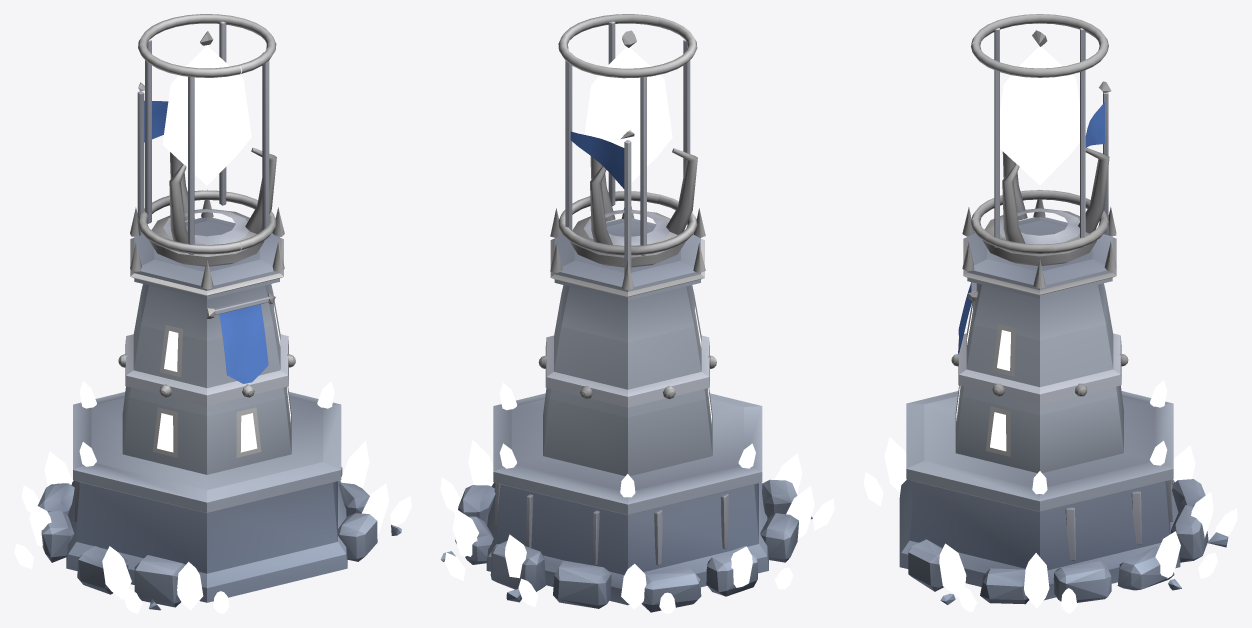
Rendered from frost_1_5.glb.
3 renders of one model, left to right at view 1: azimuth 30°, elevation 25°; view 2: azimuth 150°, elevation 25°; view 3: azimuth 270°, elevation 25°, orthographic.
Visible parts, largest first — view 1: Tower, Turret; view 2: Tower, Turret; view 3: Tower, Turret.
Part boxes in pixels (x1,y1,x2,y2): Tower: [14, 82, 411, 613]; Turret: [138, 14, 276, 266]; Tower: [440, 130, 834, 613]; Turret: [558, 14, 697, 267]; Tower: [863, 81, 1237, 613]; Turret: [971, 14, 1109, 265].
Bounding box in the file's own units: 4.21 × 5.94 × 3.92.
